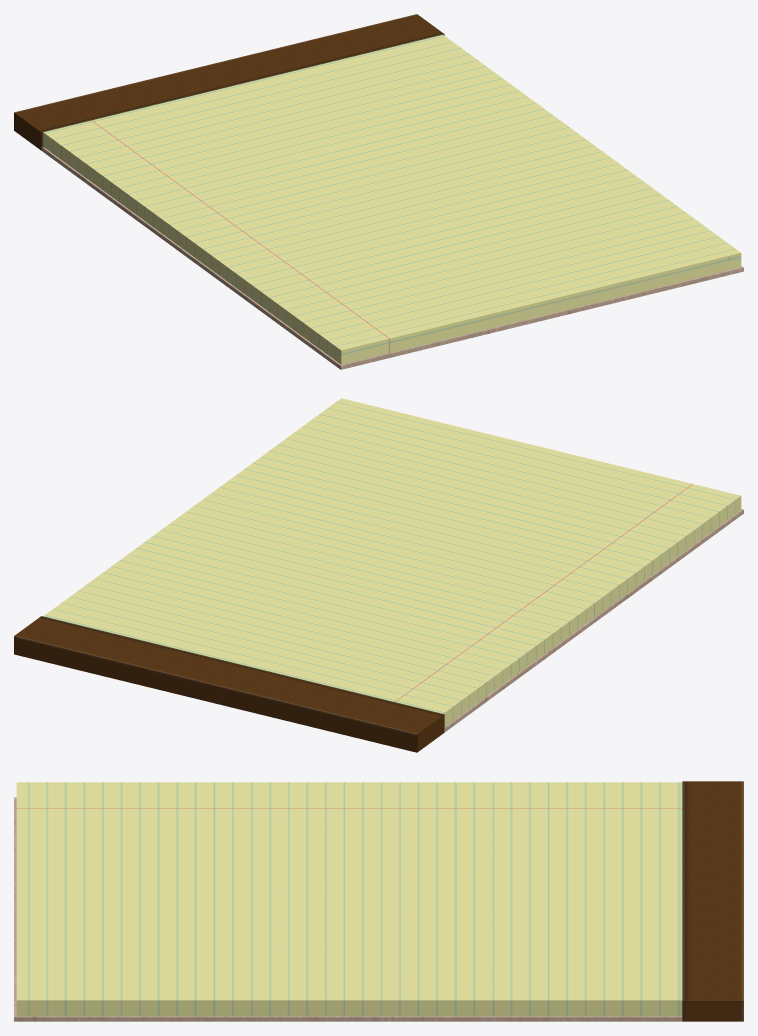
The model's file is legal_pad.glb.
3 views of the same model, one above another, from view 1: azimuth 30°, elevation 25°; view 2: azimuth 150°, elevation 25°; view 3: azimuth 270°, elevation 25° (orthographic). The views are drawn at different scales.
Visible parts, largest first — view 1: Legal Pad_0; view 2: Legal Pad_0; view 3: Legal Pad_0.
Part boxes in pixels (left/top/right/bottom): Legal Pad_0: left=14, top=14, right=743, bottom=369; Legal Pad_0: left=14, top=398, right=743, bottom=752; Legal Pad_0: left=14, top=781, right=743, bottom=1021.
Size of the model in its own units: 2 by 0.0868 by 2.81.
1 material, 1 textured.
